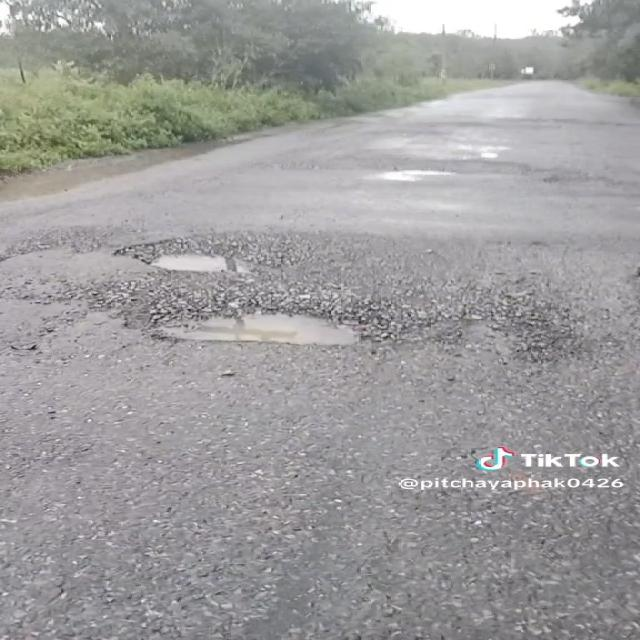Poth-hole: (102, 225, 404, 396)
